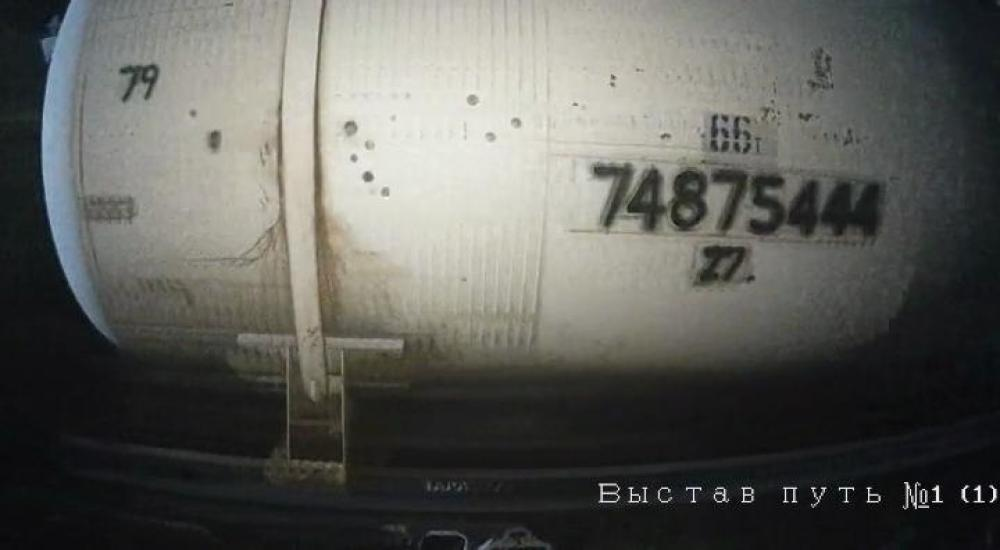Wagon-number: (585, 162, 885, 243)
